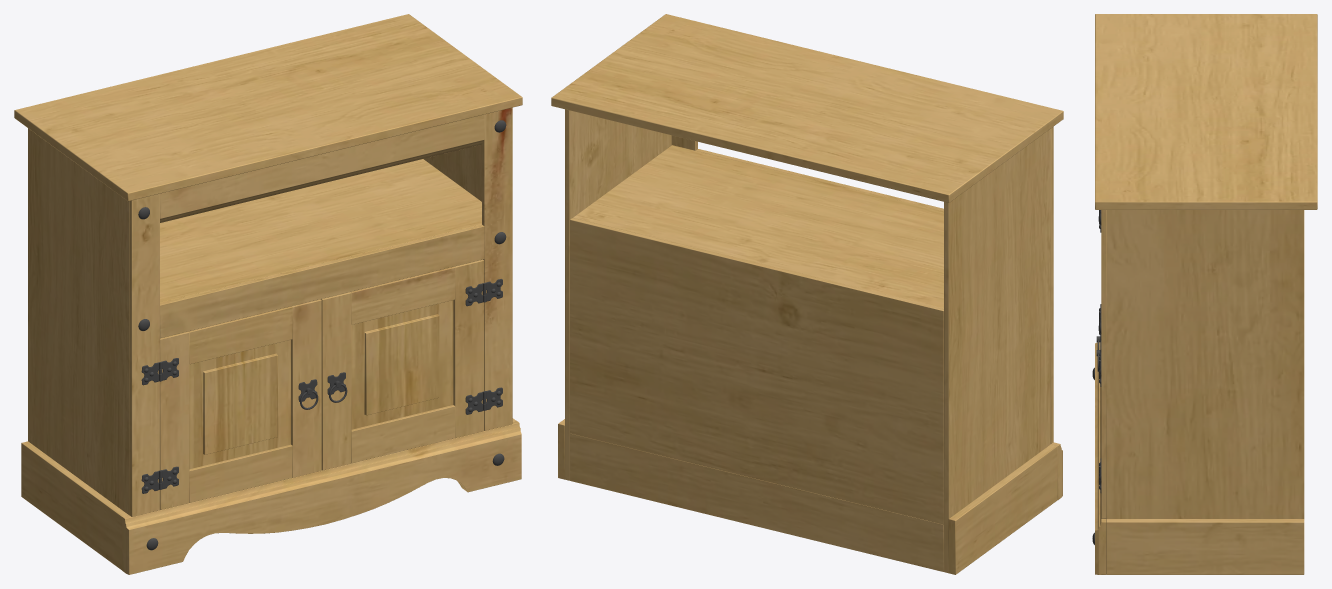
File: abo-B008RLJR2G.glb
3 renders of one model, left to right at view 1: azimuth 30°, elevation 25°; view 2: azimuth 150°, elevation 25°; view 3: azimuth 270°, elevation 25°, orthographic. The views are drawn at different scales.
Size of the model in its own units: 0.851 by 0.787 by 0.43.
Materials: 1 (1 with a texture image).
